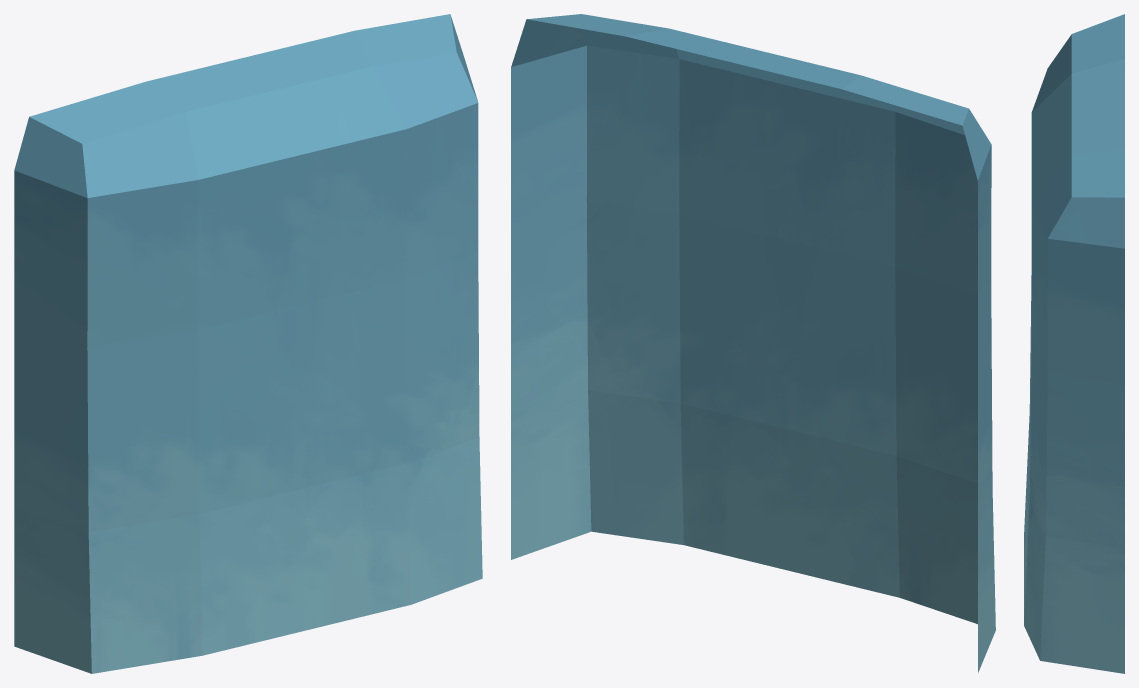
Rendered from Water_fall.fbx.
The picture shows the model from 3 angles, left to right: view 1: azimuth 30°, elevation 25°; view 2: azimuth 150°, elevation 25°; view 3: azimuth 270°, elevation 25°; orthographic projection. The views are drawn at different scales.
Parts seen in each view (by area): view 1: Water_Fall; view 2: Water_Fall; view 3: Water_Fall.
Boxes of the visible parts, x1=… form: Water_Fall: x1=14, y1=14, x2=482, y2=673; Water_Fall: x1=511, y1=14, x2=995, y2=672; Water_Fall: x1=1024, y1=14, x2=1124, y2=673.
Size of the model in its own units: 5.53 by 6.24 by 1.2.
1 material, 1 textured.
